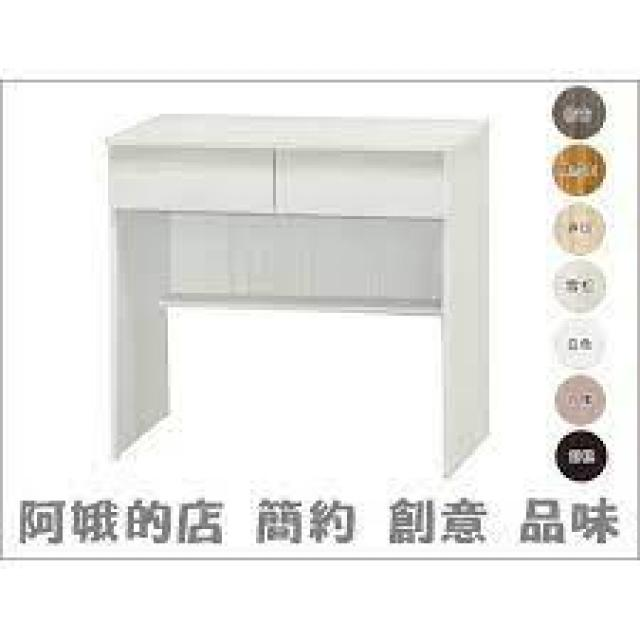table: (73, 78, 519, 485)
